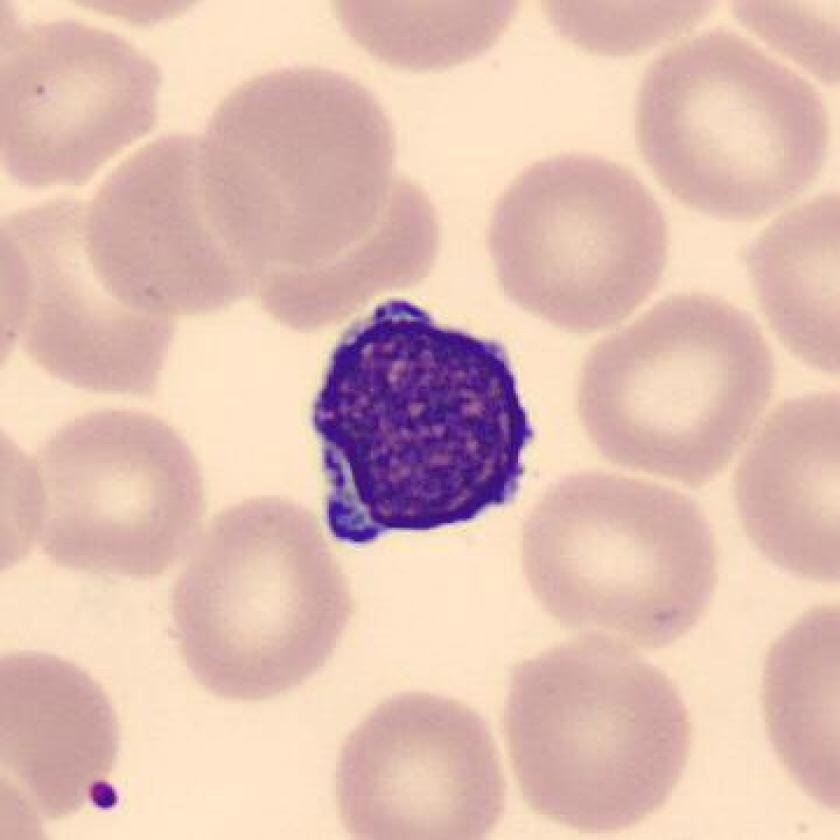lymphocyte: (290, 293, 547, 561)
